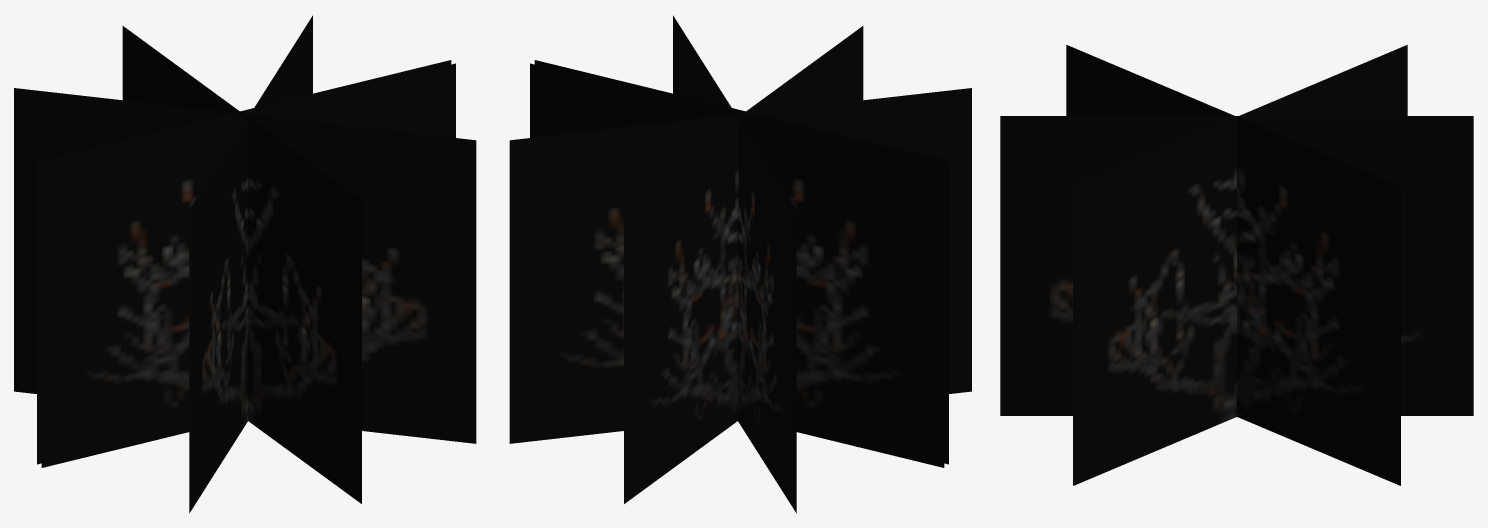
The model's file is bush02_winter.gltf.
The picture shows the model from 3 angles, left to right: view 1: azimuth 30°, elevation 25°; view 2: azimuth 150°, elevation 25°; view 3: azimuth 270°, elevation 25°; orthographic projection.
Visible parts, largest first — view 1: bush2_winter; view 2: bush2_winter; view 3: bush2_winter.
Part boxes in pixels (x1,y1,x2,y2): bush2_winter: (14, 15, 476, 513); bush2_winter: (509, 15, 971, 513); bush2_winter: (1000, 45, 1473, 485).
Bounding box in the file's own units: 1 × 0.7 × 1.
1 material, 1 textured.
